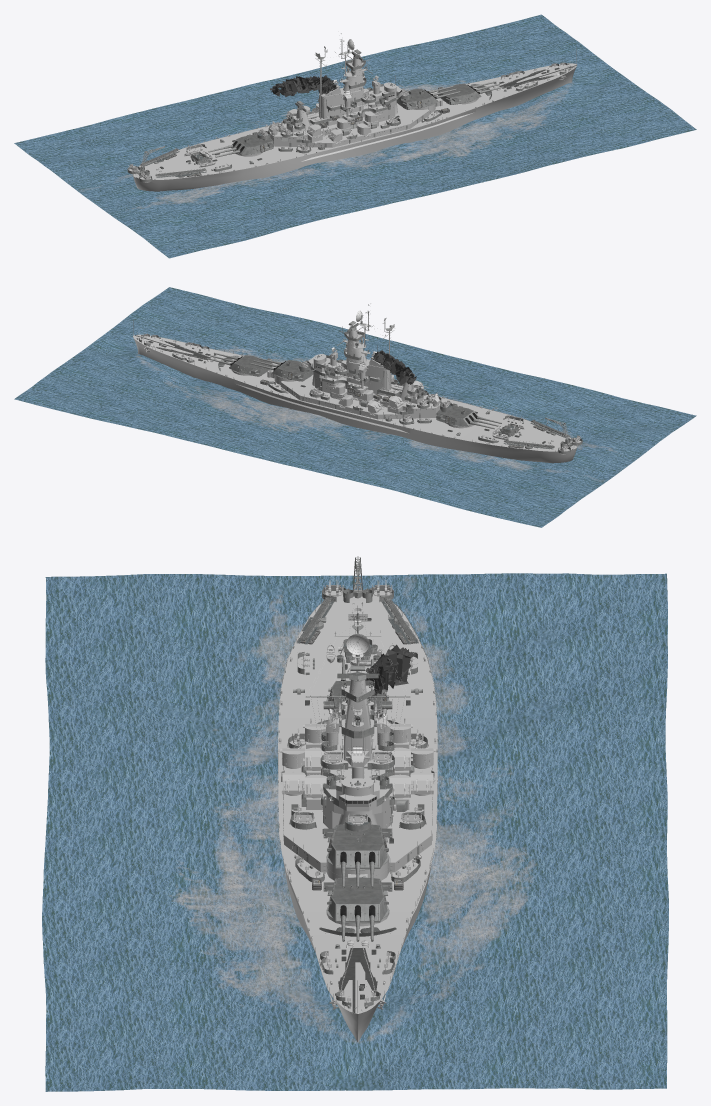
File: Alabama.fbx
The picture shows the model from 3 angles, top to bottom: view 1: azimuth 30°, elevation 25°; view 2: azimuth 150°, elevation 25°; view 3: azimuth 270°, elevation 25°; orthographic projection. The views are drawn at different scales.
Visible parts, largest first — view 1: Ocean, Alabama_Hull, Sidings, Smokestack, 406mm_Mk6_Triple_mount.002, 406mm_Mk6_Triple_mount.001, 406mm_Mk6_Triple_mount, Metal_Structure; view 2: Ocean, Alabama_Hull, Sidings, Smokestack, 406mm_Mk6_Triple_mount.002, 406mm_Mk6_Triple_mount.001, Metal_Structure, 406mm_Mk6_Triple_mount; view 3: Ocean, Alabama_Hull, Sidings, 406mm_Mk6_Triple_mount, 406mm_Mk6_Triple_mount.001, Metal_Structure, Smokestack, Plane.
Part boxes in pixels (box(x1,y1,x2,y2)): Ocean: box(14, 14, 696, 258); Alabama_Hull: box(129, 54, 577, 191); Sidings: box(127, 60, 571, 182); Smokestack: box(270, 75, 336, 96); 406mm_Mk6_Triple_mount.002: box(231, 130, 274, 155); 406mm_Mk6_Triple_mount.001: box(437, 83, 481, 104); 406mm_Mk6_Triple_mount: box(396, 88, 437, 109); Metal_Structure: box(131, 39, 576, 179); Ocean: box(14, 287, 696, 527); Alabama_Hull: box(133, 326, 581, 463); Sidings: box(139, 331, 582, 453); Smokestack: box(373, 350, 416, 385); 406mm_Mk6_Triple_mount.002: box(435, 402, 478, 426); 406mm_Mk6_Triple_mount.001: box(229, 355, 272, 376); Metal_Structure: box(133, 305, 578, 451); 406mm_Mk6_Triple_mount: box(272, 360, 313, 381); Ocean: box(42, 573, 668, 1091); Alabama_Hull: box(278, 591, 437, 1042); Sidings: box(281, 586, 434, 1006); 406mm_Mk6_Triple_mount: box(323, 814, 392, 870); 406mm_Mk6_Triple_mount.001: box(323, 877, 392, 923); Metal_Structure: box(284, 592, 431, 1013); Smokestack: box(365, 644, 415, 697); Plane: box(338, 948, 377, 1012).
Bounding box in the file's own units: 250 × 59.43 × 129.
